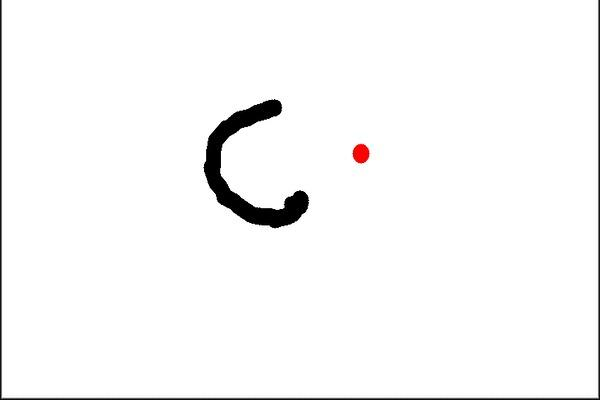C: (200, 91, 314, 230)
